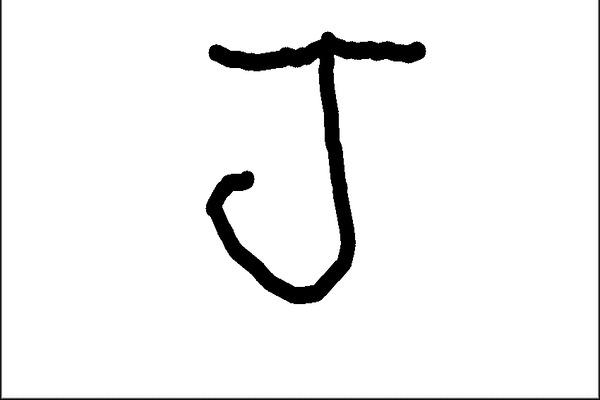J: (197, 27, 428, 310)
